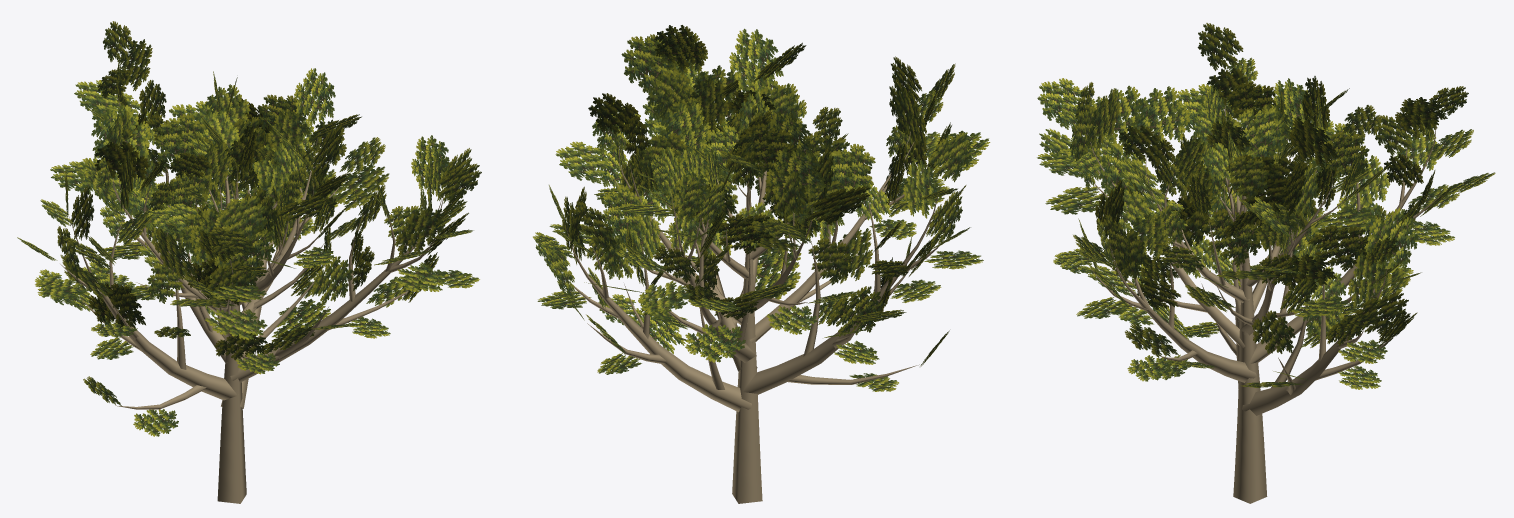
The model's file is cincis-oak-sapling-experiment.glb.
3 renders of one model, left to right at view 1: azimuth 30°, elevation 25°; view 2: azimuth 150°, elevation 25°; view 3: azimuth 270°, elevation 25°, orthographic. The views are drawn at different scales.
Visible parts, largest first — view 1: leaves, tree; view 2: leaves, tree; view 3: leaves, tree.
Boxes of the visible parts, x1,y1,x2,y2 form: leaves: [17, 21, 481, 436]; tree: [60, 67, 443, 503]; leaves: [533, 25, 990, 391]; tree: [566, 70, 939, 503]; leaves: [1037, 23, 1495, 389]; tree: [1084, 73, 1441, 503].
Bounding box in the file's own units: 9.69 × 9.07 × 9.43.
Materials: 2 (1 with a texture image).
